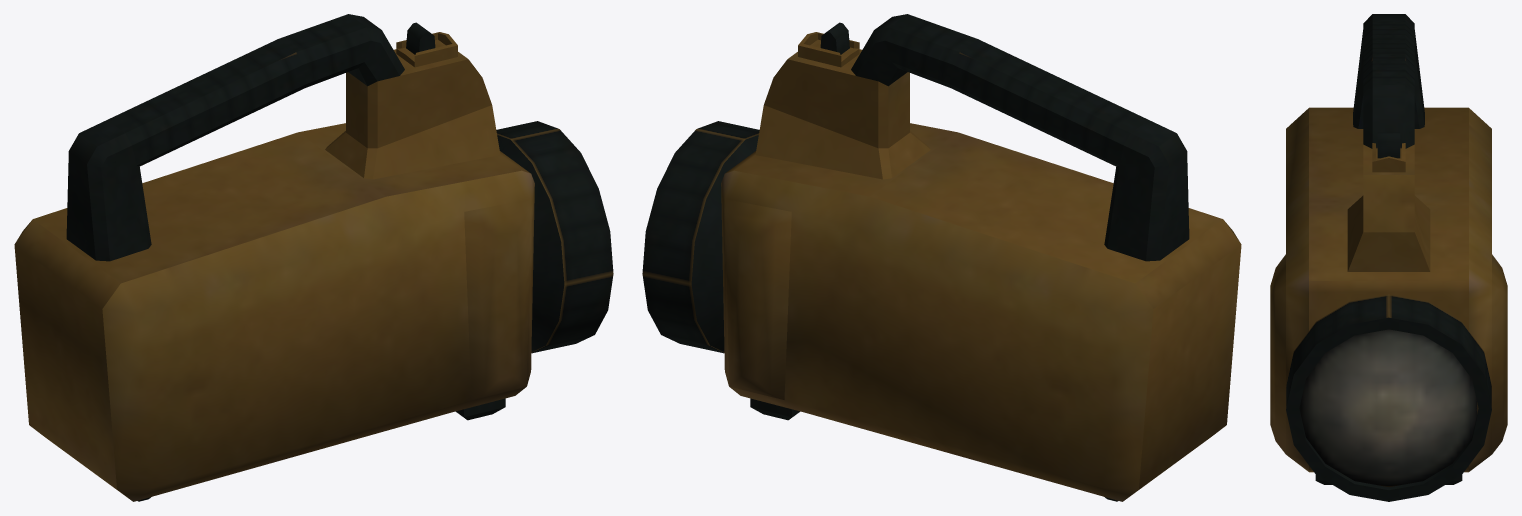
The model's file is flashlight_1.obj.
The picture shows the model from 3 angles, left to right: view 1: azimuth 30°, elevation 25°; view 2: azimuth 150°, elevation 25°; view 3: azimuth 270°, elevation 25°; orthographic projection. The views are drawn at different scales.
Visible parts, largest first — view 1: flashlight_1; view 2: flashlight_1; view 3: flashlight_1.
Part boxes in pixels (box(x1,y1,x2,y2)): flashlight_1: box(14, 14, 613, 501); flashlight_1: box(642, 14, 1241, 501); flashlight_1: box(1270, 14, 1507, 501).
Size of the model in its own units: 12.16 by 8.78 by 5.3.
1 material, 1 textured.
